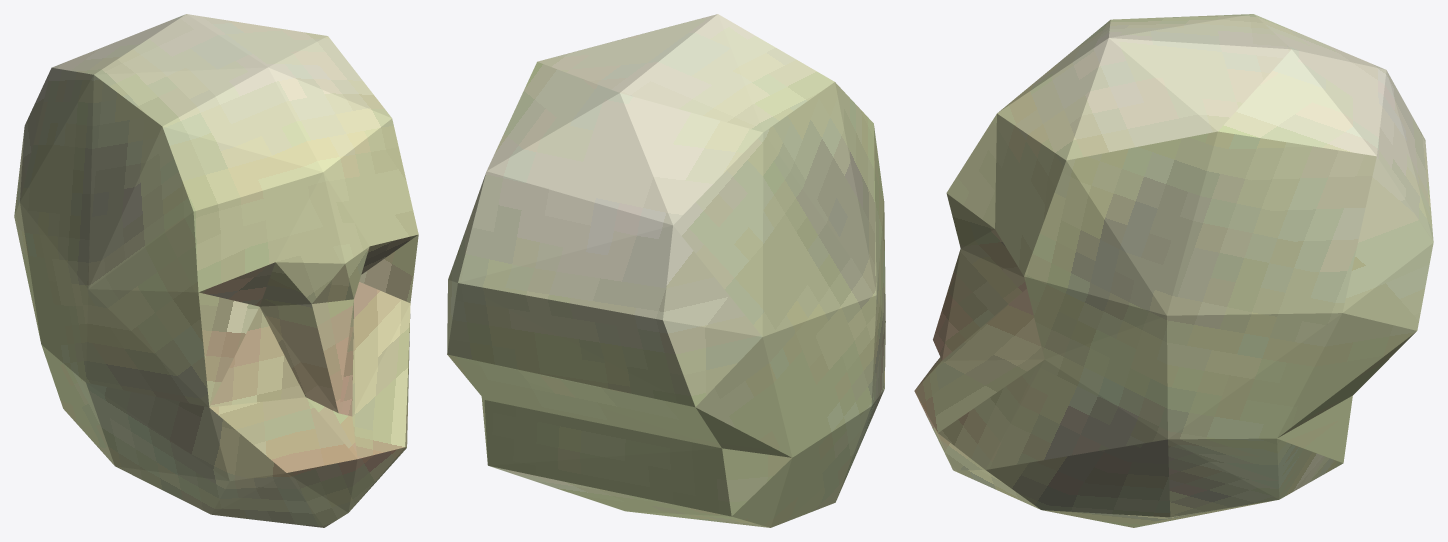
File: SM_LowPoly_00.fbx
The picture shows the model from 3 angles, left to right: view 1: azimuth 30°, elevation 25°; view 2: azimuth 150°, elevation 25°; view 3: azimuth 270°, elevation 25°; orthographic projection. The views are drawn at different scales.
Parts seen in each view (by area): view 1: SM_LowPoly_00; view 2: SM_LowPoly_00; view 3: SM_LowPoly_00.
Part boxes in pixels (x1,y1,x2,y2): SM_LowPoly_00: [14, 14, 418, 527]; SM_LowPoly_00: [447, 14, 885, 527]; SM_LowPoly_00: [914, 14, 1433, 527].
Size of the model in its own units: 32.05 by 40.55 by 42.42.
